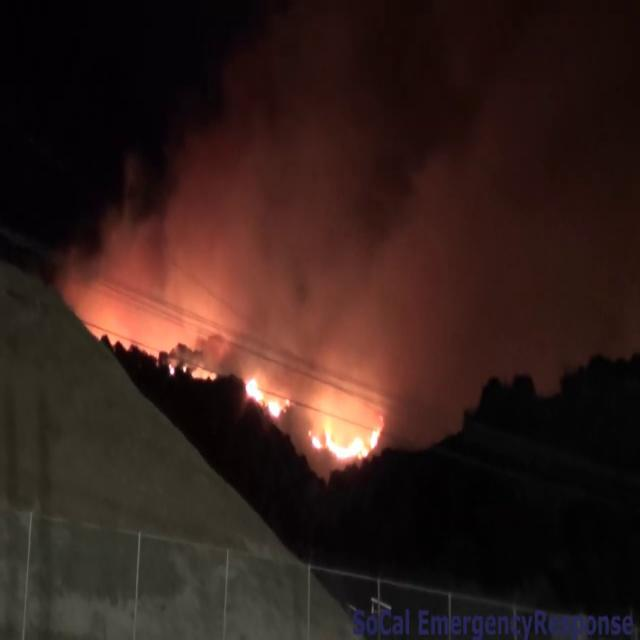Fire: (306, 400, 384, 468), (242, 370, 286, 426)
Smoke: (68, 6, 636, 354)
